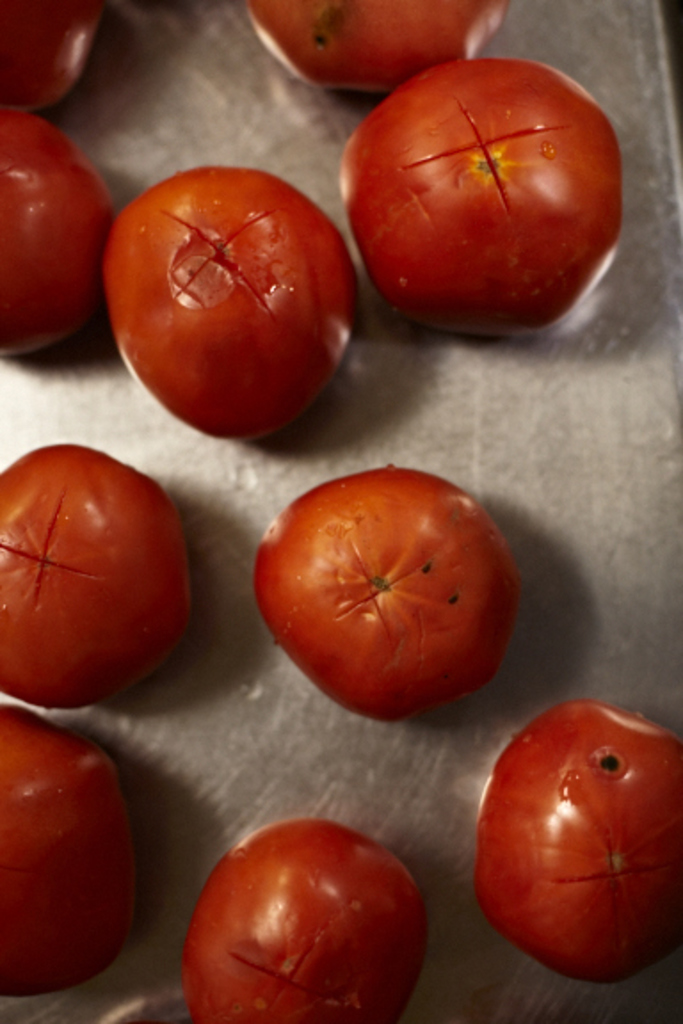Tomato: (335, 53, 626, 332), (97, 163, 360, 442), (251, 464, 517, 718), (475, 693, 678, 982), (0, 439, 194, 712), (182, 810, 430, 1018), (0, 705, 132, 994), (0, 103, 115, 354), (243, 1, 508, 91), (0, 3, 105, 111)
